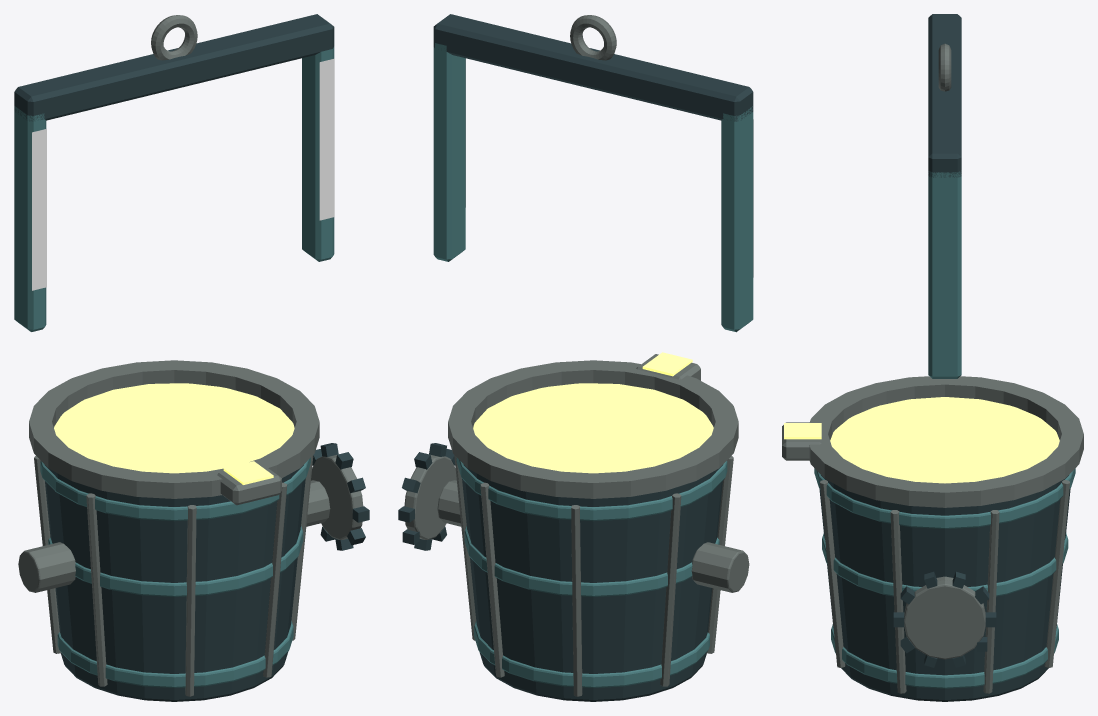
File: foundry-crucible.glb
The picture shows the model from 3 angles, left to right: view 1: azimuth 30°, elevation 25°; view 2: azimuth 150°, elevation 25°; view 3: azimuth 270°, elevation 25°; orthographic projection. The views are drawn at different scales.
Visible parts, largest first — view 1: foundry-crucible__ladle-tilt__steel, foundry-crucible__ladle-tilt__hardware, foundry-crucible__ladle-tilt__molten-core, foundry-crucible__foundry-crucible__steel, foundry-crucible__ladle-tilt__petrol, foundry-crucible__foundry-crucible__petrol, foundry-crucible__foundry-crucible__decal-hazard, foundry-crucible__foundry-crucible__hardware; view 2: foundry-crucible__ladle-tilt__steel, foundry-crucible__ladle-tilt__hardware, foundry-crucible__ladle-tilt__molten-core, foundry-crucible__foundry-crucible__petrol, foundry-crucible__foundry-crucible__steel, foundry-crucible__ladle-tilt__petrol, foundry-crucible__foundry-crucible__hardware; view 3: foundry-crucible__ladle-tilt__steel, foundry-crucible__ladle-tilt__hardware, foundry-crucible__ladle-tilt__molten-core, foundry-crucible__ladle-tilt__petrol, foundry-crucible__foundry-crucible__petrol, foundry-crucible__foundry-crucible__steel, foundry-crucible__foundry-crucible__hardware.
Part boxes in pixels (x1=…): foundry-crucible__ladle-tilt__steel: x1=44, y1=443, x2=369, y2=701; foundry-crucible__ladle-tilt__hardware: x1=18, y1=360, x2=363, y2=696; foundry-crucible__ladle-tilt__molten-core: x1=54, y1=383, x2=294, y2=484; foundry-crucible__foundry-crucible__steel: x1=14, y1=14, x2=334, y2=121; foundry-crucible__ladle-tilt__petrol: x1=40, y1=457, x2=310, y2=687; foundry-crucible__foundry-crucible__petrol: x1=14, y1=46, x2=334, y2=331; foundry-crucible__foundry-crucible__decal-hazard: x1=32, y1=58, x2=334, y2=290; foundry-crucible__foundry-crucible__hardware: x1=151, y1=15, x2=197, y2=60; foundry-crucible__ladle-tilt__steel: x1=398, y1=443, x2=722, y2=701; foundry-crucible__ladle-tilt__hardware: x1=404, y1=354, x2=749, y2=696; foundry-crucible__ladle-tilt__molten-core: x1=473, y1=352, x2=713, y2=473; foundry-crucible__foundry-crucible__petrol: x1=433, y1=43, x2=753, y2=332; foundry-crucible__foundry-crucible__steel: x1=433, y1=14, x2=753, y2=121; foundry-crucible__ladle-tilt__petrol: x1=456, y1=457, x2=727, y2=687; foundry-crucible__foundry-crucible__hardware: x1=570, y1=15, x2=616, y2=60; foundry-crucible__ladle-tilt__steel: x1=819, y1=475, x2=1070, y2=701; foundry-crucible__ladle-tilt__hardware: x1=782, y1=376, x2=1083, y2=693; foundry-crucible__ladle-tilt__molten-core: x1=784, y1=397, x2=1059, y2=483; foundry-crucible__ladle-tilt__petrol: x1=814, y1=468, x2=1075, y2=688; foundry-crucible__foundry-crucible__petrol: x1=928, y1=170, x2=961, y2=378; foundry-crucible__foundry-crucible__steel: x1=928, y1=14, x2=961, y2=177; foundry-crucible__foundry-crucible__hardware: x1=938, y1=43, x2=951, y2=91.
Size of the model in its own units: 1.7 by 3.23 by 1.45.
